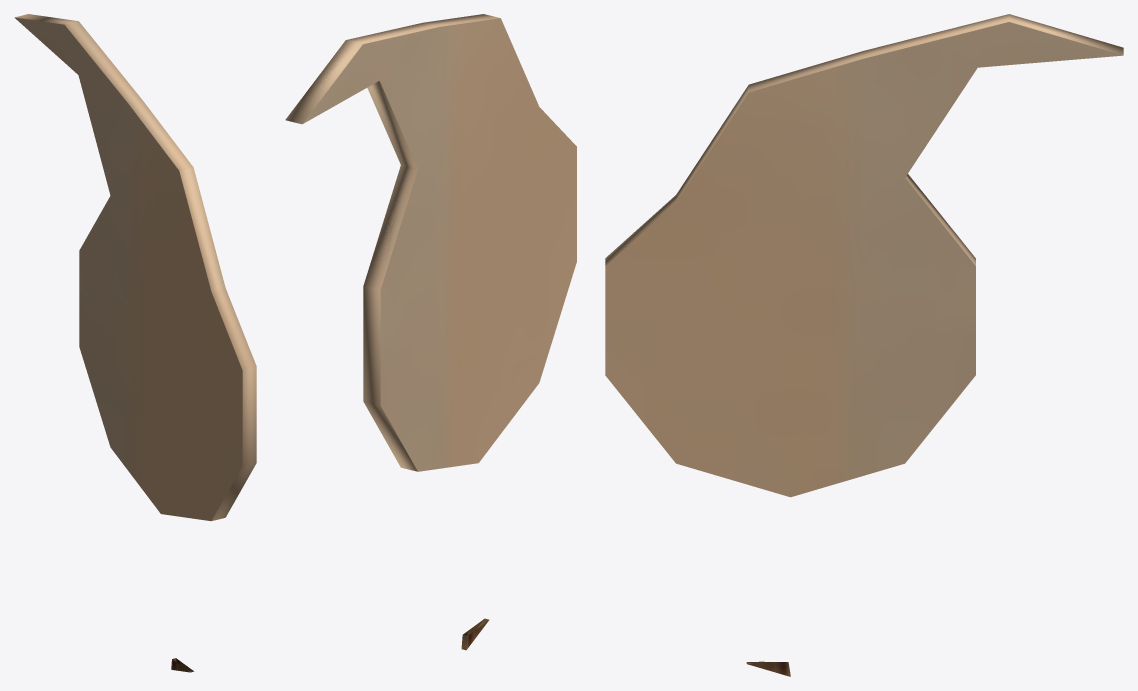
The model's file is back_tara_2.dae.
3 views of the same model, side by side, from view 1: azimuth 30°, elevation 25°; view 2: azimuth 150°, elevation 25°; view 3: azimuth 270°, elevation 25° (orthographic). The views are drawn at different scales.
Parts seen in each view (by area): view 1: BACK_tara; view 2: BACK_tara; view 3: BACK_tara.
Boxes of the visible parts, bbox=[...] form: BACK_tara: bbox=[14, 14, 256, 672]; BACK_tara: bbox=[285, 14, 576, 650]; BACK_tara: bbox=[605, 14, 1123, 676].
Bounding box in the file's own units: 0.067 × 1.33 × 1.86.
